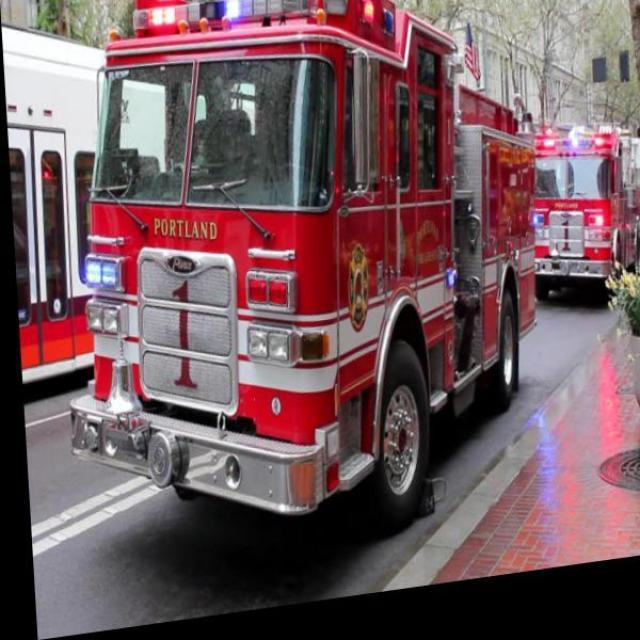emergency: (66, 0, 538, 530), (529, 120, 639, 300)
